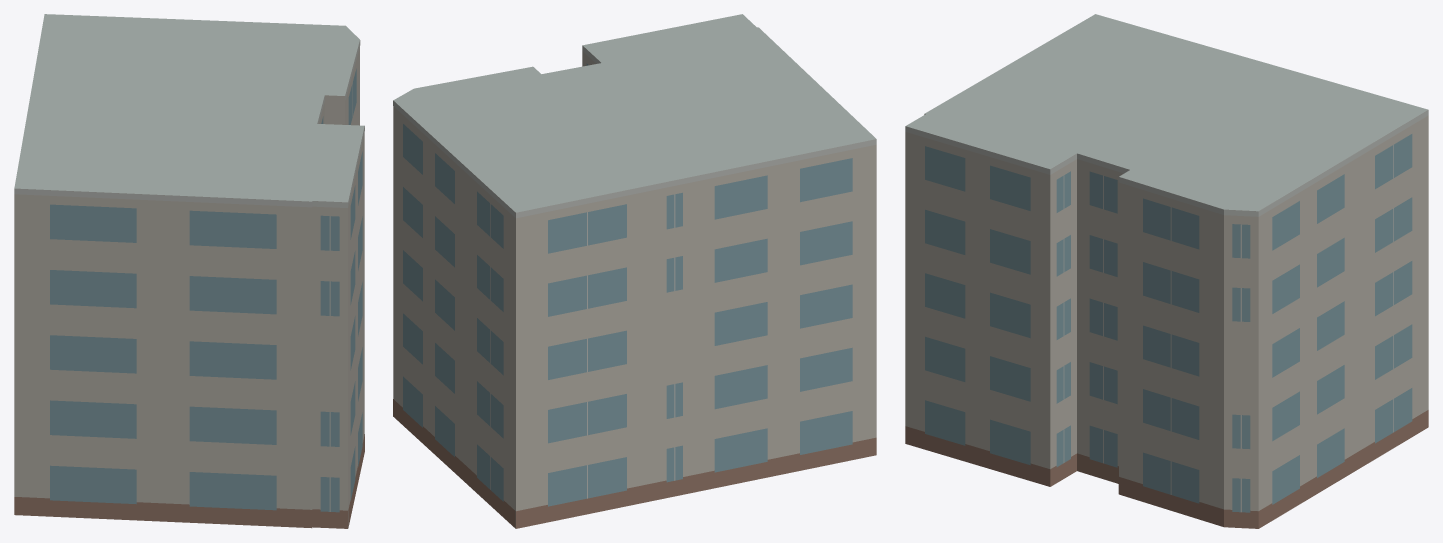
The model's file is survey-upis-32617243.glb.
3 renders of one model, left to right at view 1: azimuth 30°, elevation 25°; view 2: azimuth 150°, elevation 25°; view 3: azimuth 270°, elevation 25°, orthographic. The views are drawn at different scales.
Parts seen in each view (by area): view 1: survey-upis-32617243.tmp; view 2: survey-upis-32617243.tmp; view 3: survey-upis-32617243.tmp.
Boxes of the visible parts, bbox=[...] form: survey-upis-32617243.tmp: bbox=[14, 14, 364, 528]; survey-upis-32617243.tmp: bbox=[393, 14, 876, 528]; survey-upis-32617243.tmp: bbox=[905, 14, 1428, 528].
Bounding box in the file's own units: 18.39 × 13.8 × 20.61.
